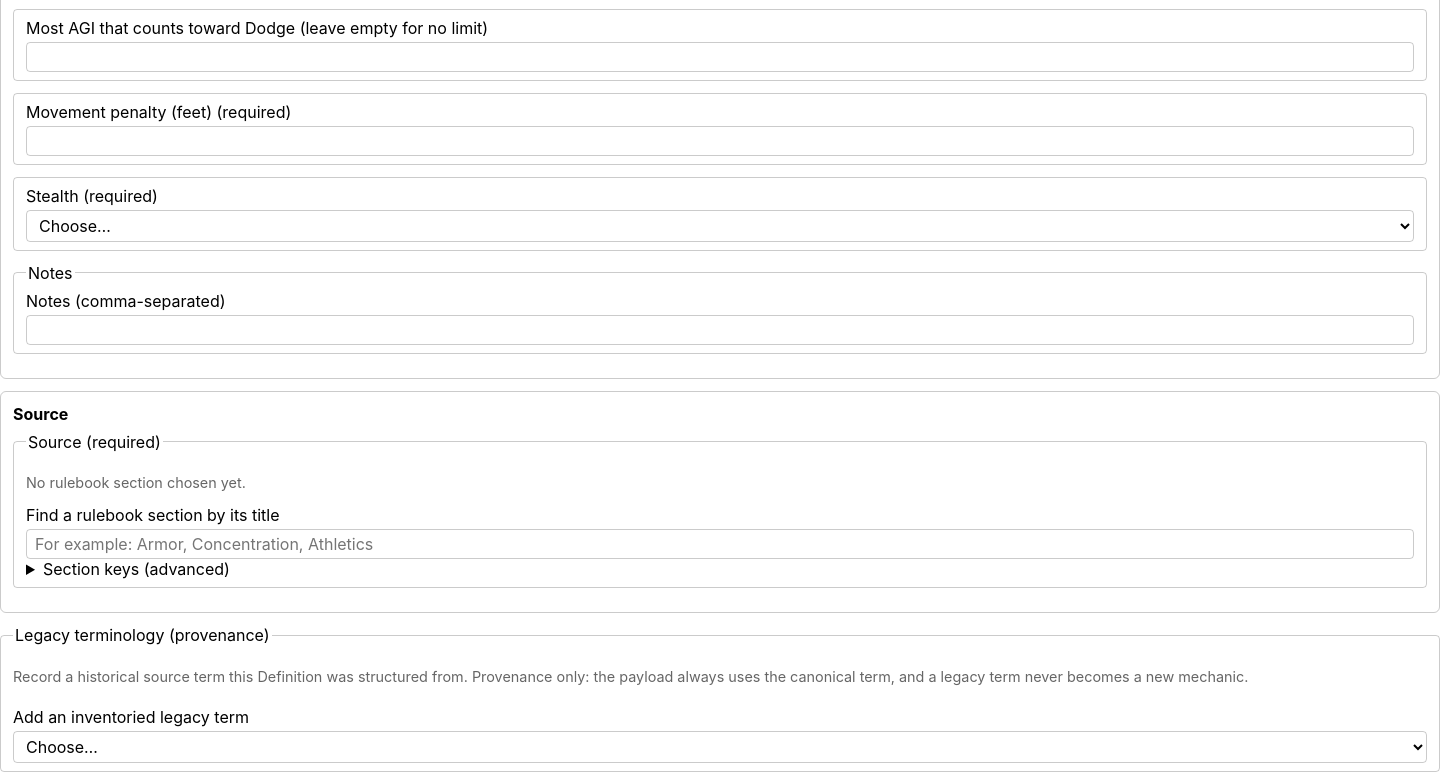
RULES-WO1 Phase C — readable source picker › chooses rulebook sections by title; the keys are stored but only shown under Section keys
(page scrolled)
Type "armor" into the search field with test id "source-search" at x=720, y=544, box [26, 529, 1414, 559]
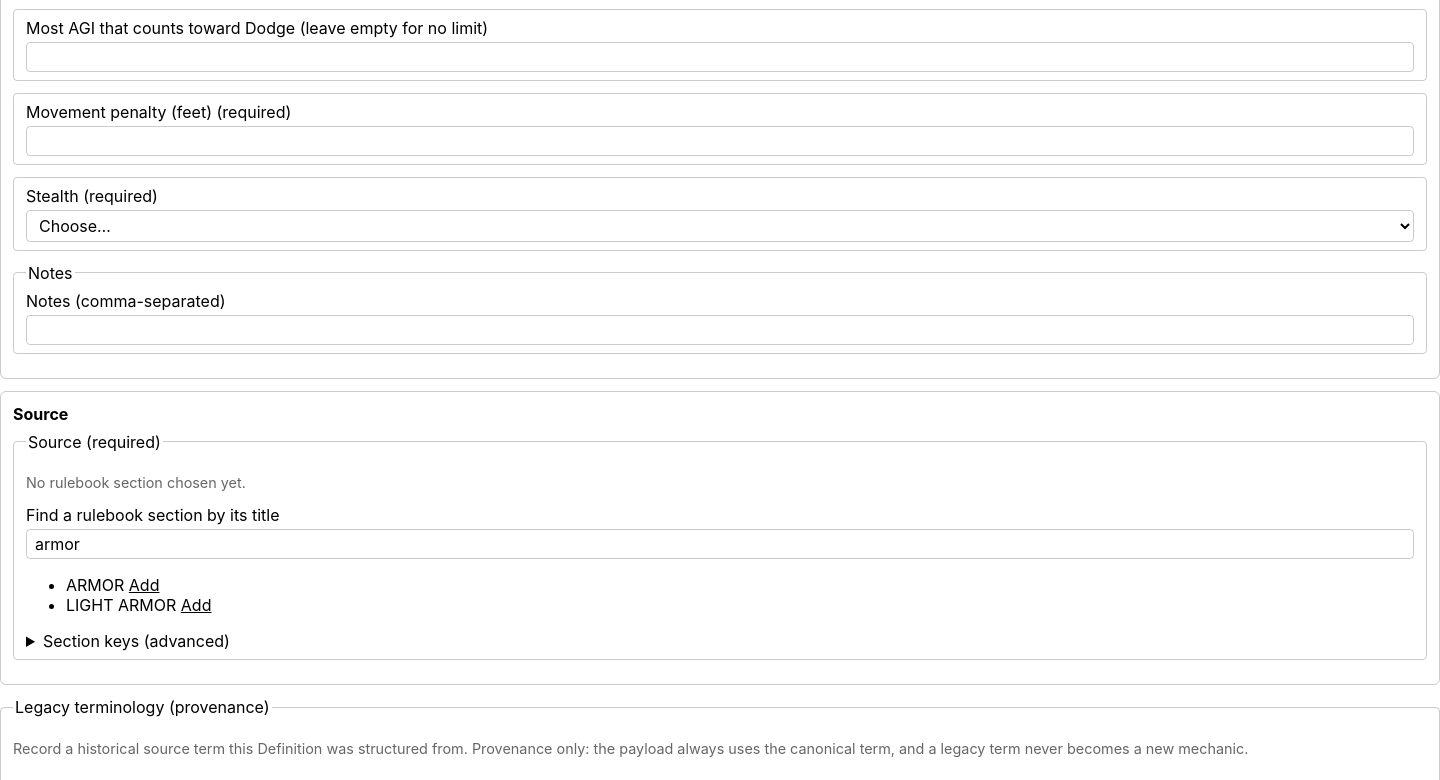
Click the button with aria-label "Add ARMOR" at x=144, y=585, box [129, 575, 159, 595]
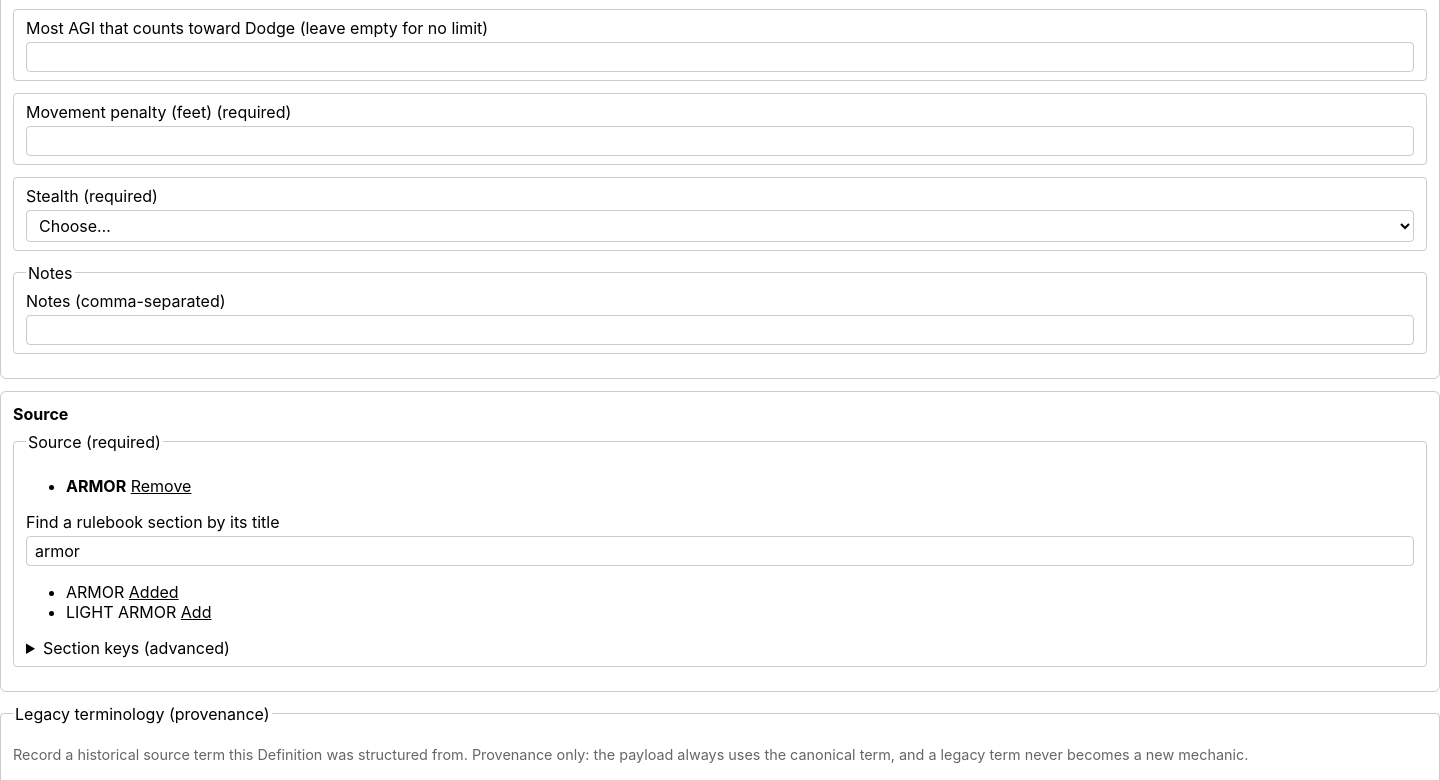
Expected: the list with test id "source-chosen" shows "ARMOR", [66, 476, 126, 496]
